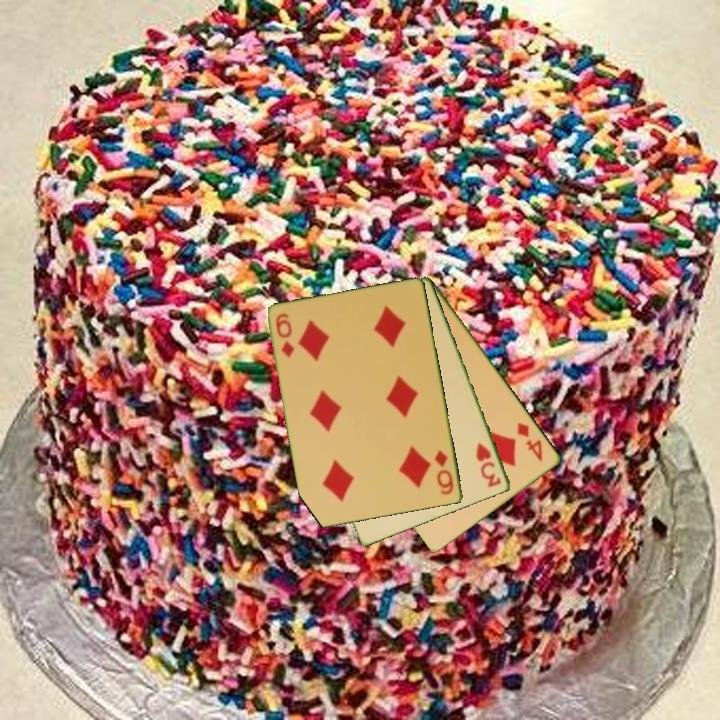3h: (473, 439, 504, 491)
4d: (514, 419, 546, 464)
6d: (431, 447, 457, 498), (272, 310, 297, 361)
